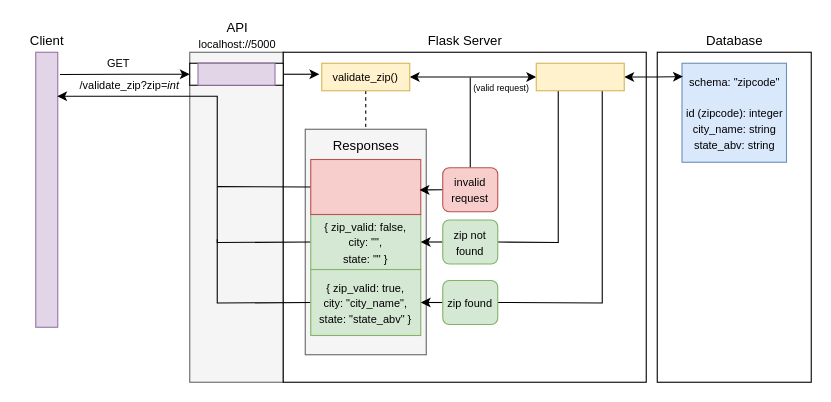
This 831x402 diagram has some shape labels left out. The centre of each missing label's shape, as x and y in pixels:
"/validate_zip" goes at (236,73).
"HTTP 400" goes at (365,186).
"retrieve_zip()" goes at (579,76).
